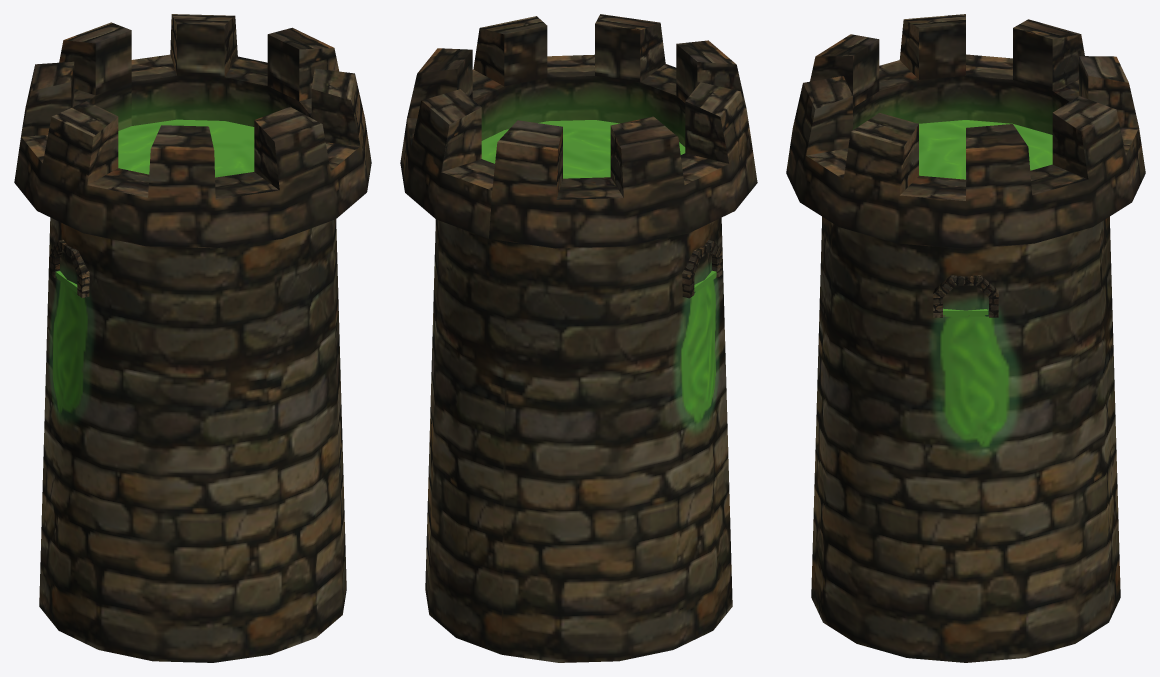
Rendered from Tower1lvl_new.FBX.
The picture shows the model from 3 angles, left to right: view 1: azimuth 30°, elevation 25°; view 2: azimuth 150°, elevation 25°; view 3: azimuth 270°, elevation 25°; orthographic projection.
Visible parts, largest first — view 1: Tower1lvl; view 2: Tower1lvl; view 3: Tower1lvl.
Part boxes in pixels (bbox=[...]): Tower1lvl: bbox=[14, 14, 371, 662]; Tower1lvl: bbox=[400, 14, 757, 662]; Tower1lvl: bbox=[786, 14, 1145, 662].
Size of the model in its own units: 6.24 by 10 by 6.24.
